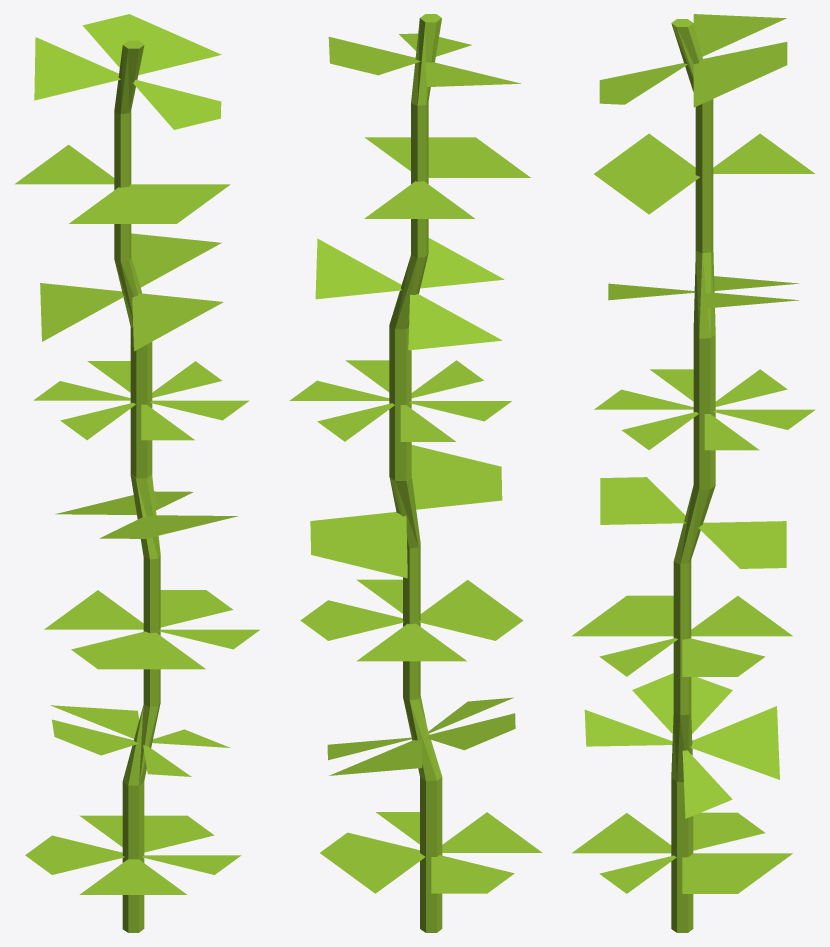
Rendered from plant.obj.
3 renders of one model, left to right at view 1: azimuth 30°, elevation 25°; view 2: azimuth 150°, elevation 25°; view 3: azimuth 270°, elevation 25°, orthographic. The views are drawn at different scales.
Visible parts, largest first — view 1: SketchUp; view 2: SketchUp; view 3: SketchUp.
Part boxes in pixels (box(x1,y1,x2,y2)): SketchUp: box(14, 14, 259, 932); SketchUp: box(289, 14, 542, 932); SketchUp: box(572, 14, 815, 932).
Size of the model in its own units: 2.06 by 9 by 2.2.
